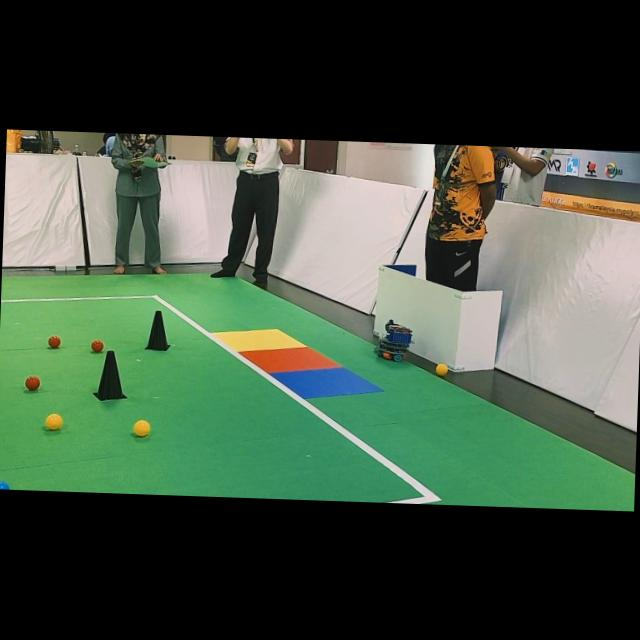ball: (45, 413, 63, 429), (133, 420, 150, 436), (25, 375, 40, 390), (90, 339, 104, 352), (48, 334, 60, 348), (435, 363, 447, 375), (0, 480, 9, 489)
goal: (271, 367, 381, 398), (240, 346, 340, 373), (212, 329, 307, 352)
